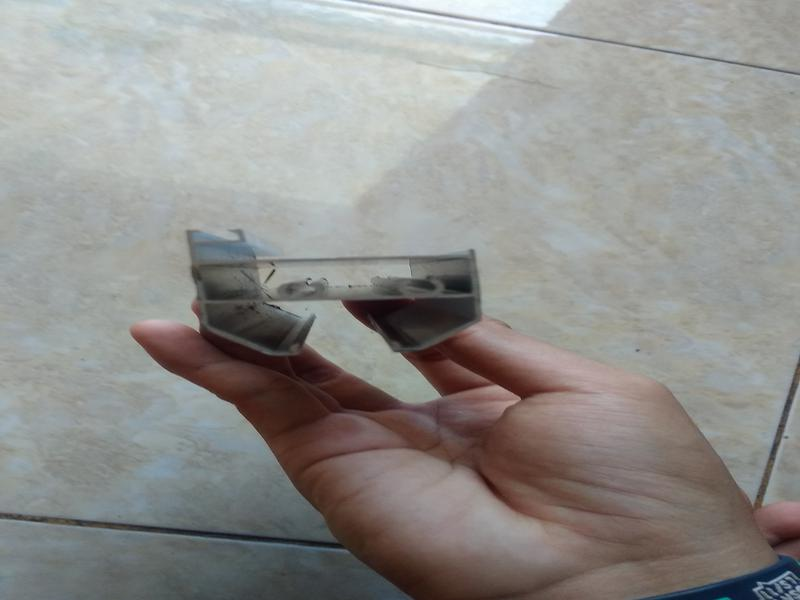Aluminium_3: (167, 211, 508, 364)
